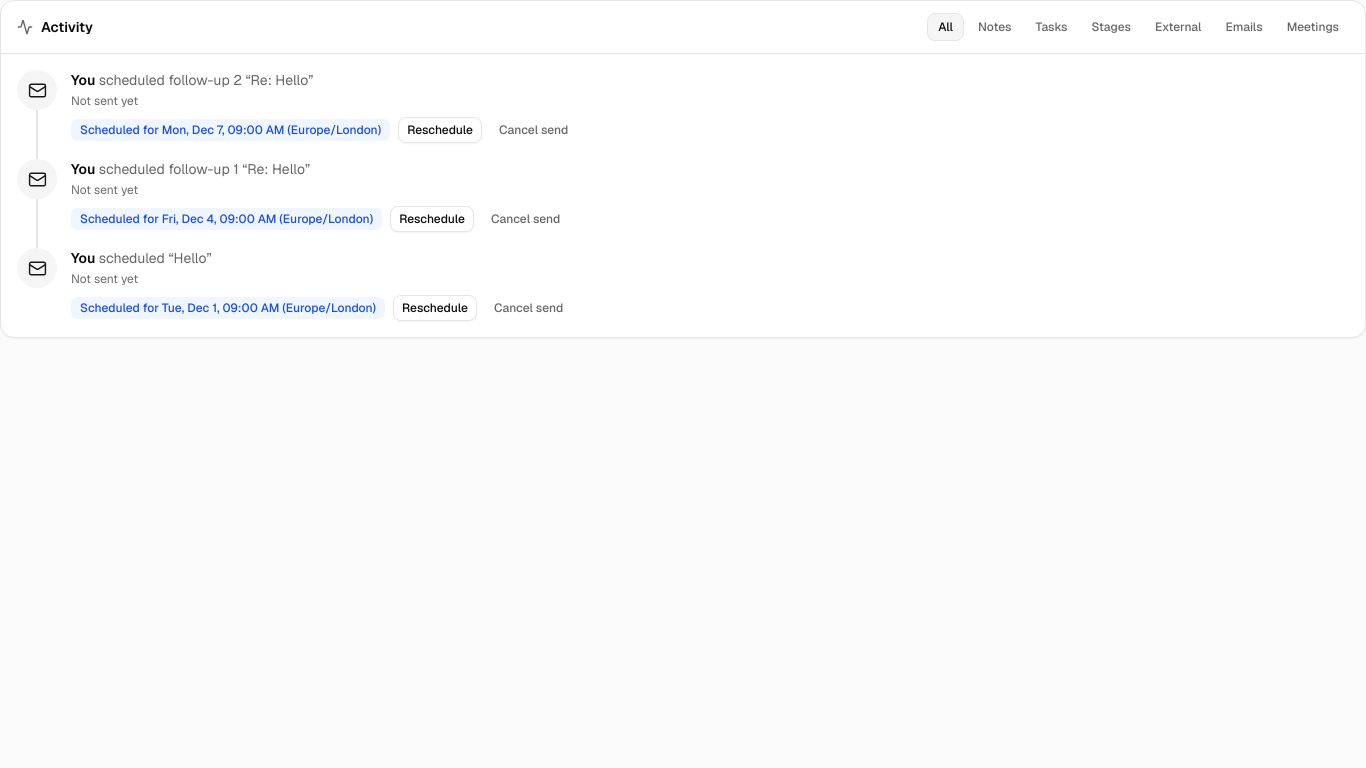
Test: queued follow-ups on the timeline › shows each follow-up as one of its chain, and cancelling the first says its follow-ups go with it
Expected: the text "scheduled follow-up 1 “Re: Hello”" is shown, [99,160,310,178]
Expected: the text "scheduled follow-up 2 “Re: Hello”" is shown, [99,71,313,89]
Newest first: the first email's line is the last.
Click the button "Cancel send" in the row of "Tue, Dec 1, 09:00 AM (Europe/London)" at (529, 308), box [485,295,572,321]
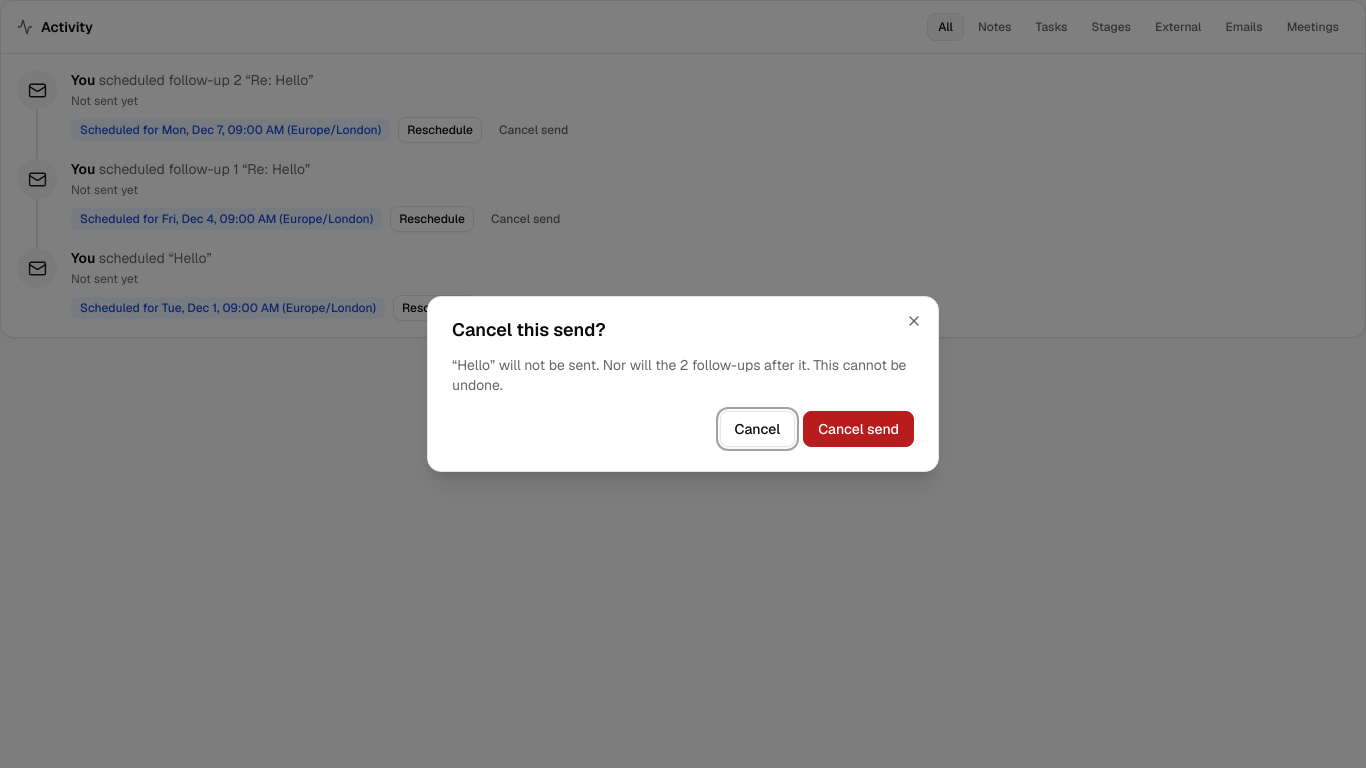
Now the dialog "Cancel this send?" shows "Nor will the 2 follow-ups after it.", box [452,356,906,394]
